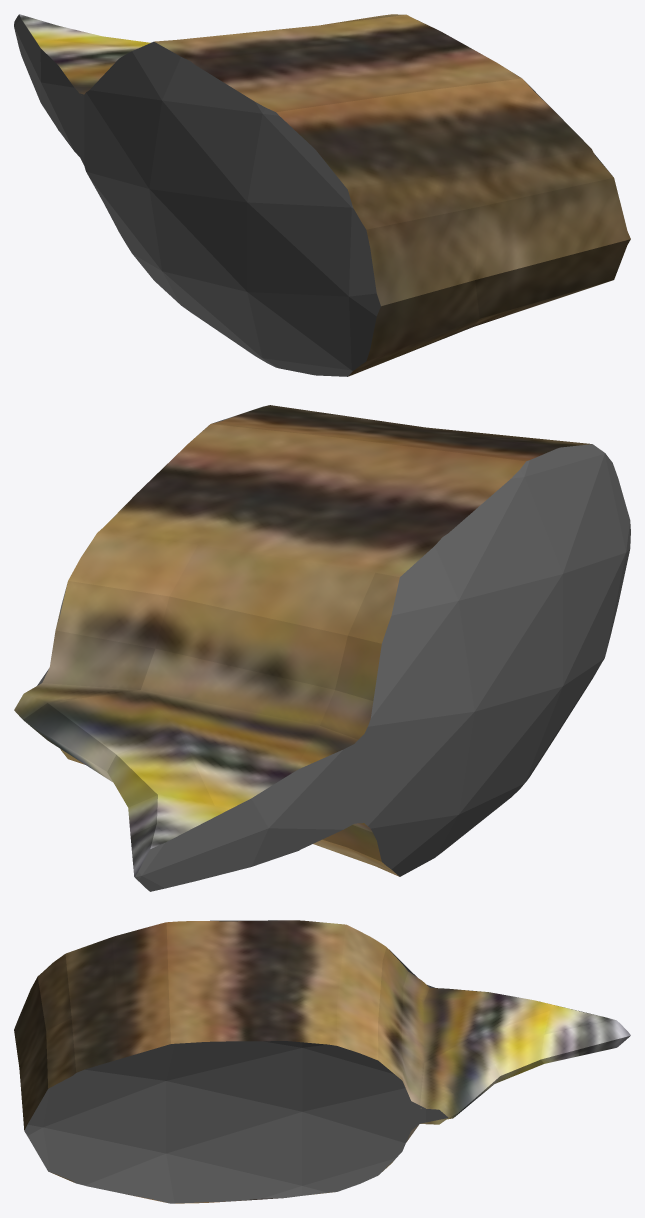
Rendered from link_11_composite.obj.
The picture shows the model from 3 angles, top to bottom: view 1: azimuth 30°, elevation 25°; view 2: azimuth 150°, elevation 25°; view 3: azimuth 270°, elevation 25°; orthographic projection. The views are drawn at different scales.
Bounding box in the file's own units: 0.00119 × 0.000934 × 0.00253.
1 material, 1 textured.
